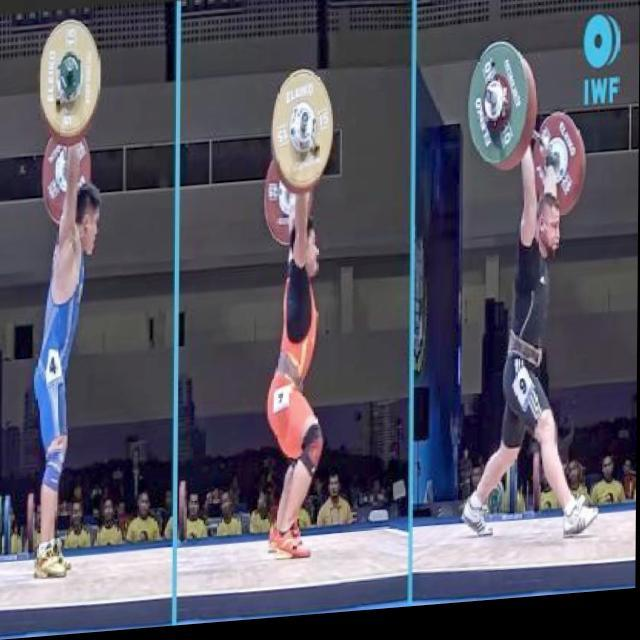barbell: (457, 44, 535, 179), (268, 69, 338, 200), (39, 18, 105, 143)
